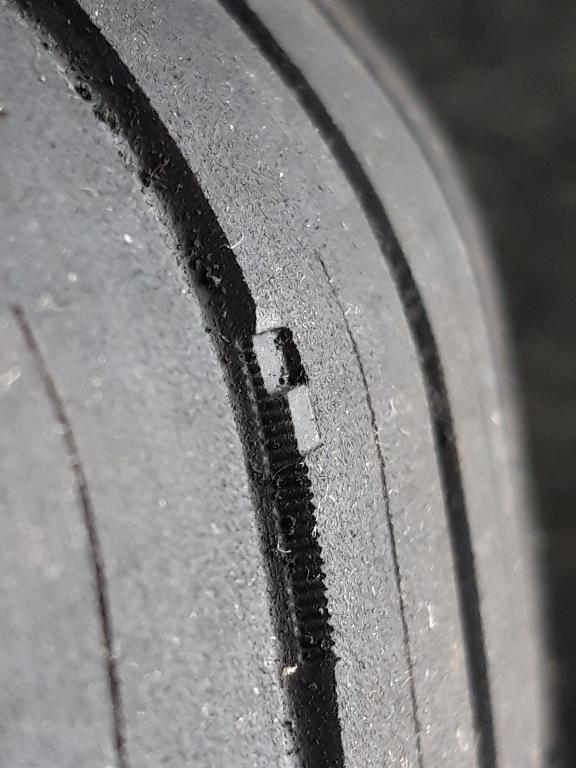temoin:25: (225, 313, 332, 477)
